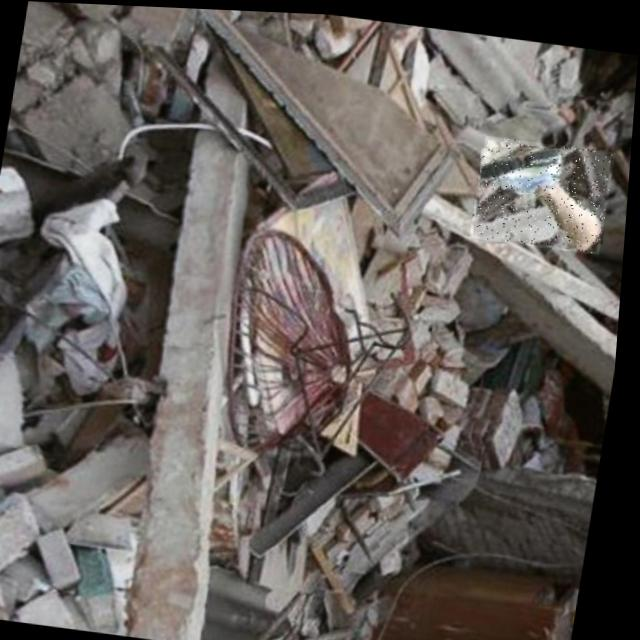Person in Rubble: (471, 130, 616, 249)
